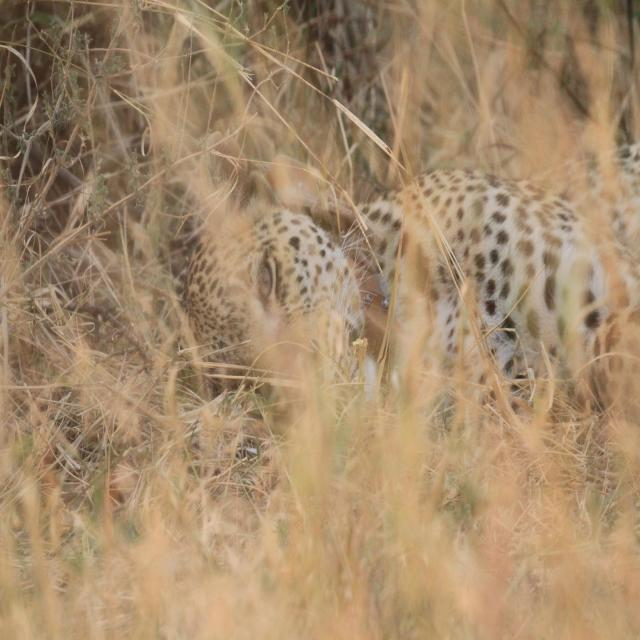Leopard: (167, 146, 640, 437)
